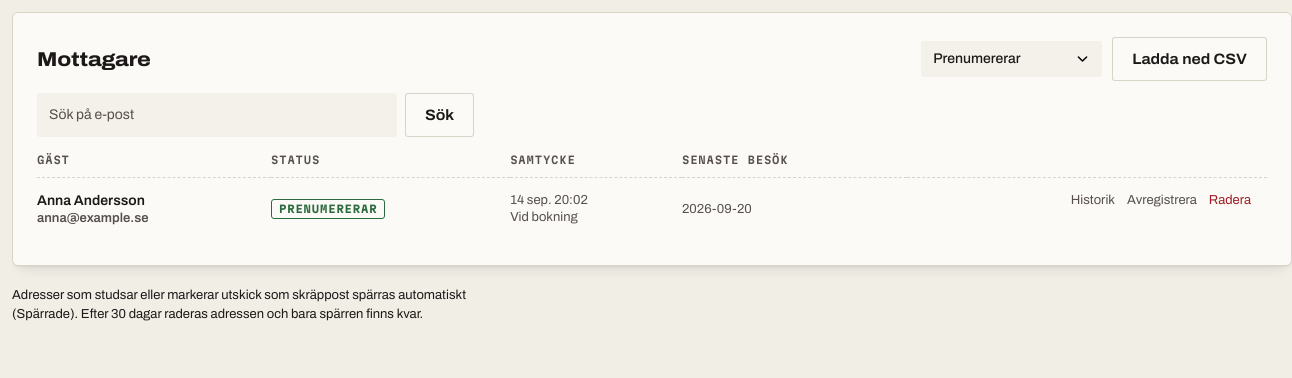
Scenario: SubscribersTab › unsubscribes through the logged privacy endpoint
Step 1. Click the button "Avregistrera" → (1162, 201), box [1125, 182, 1199, 219]
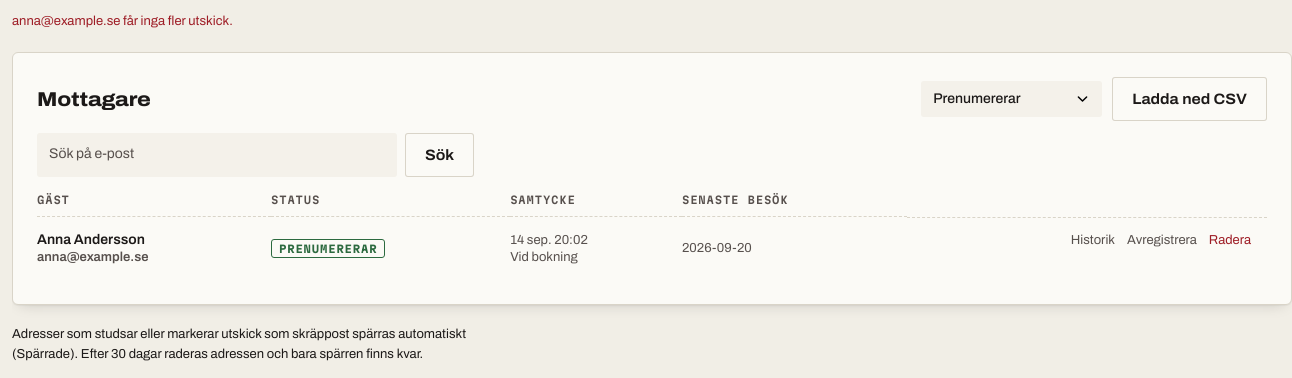
Now the text "anna@example.se får inga fler utskick." is shown, box [12, 14, 233, 28]
